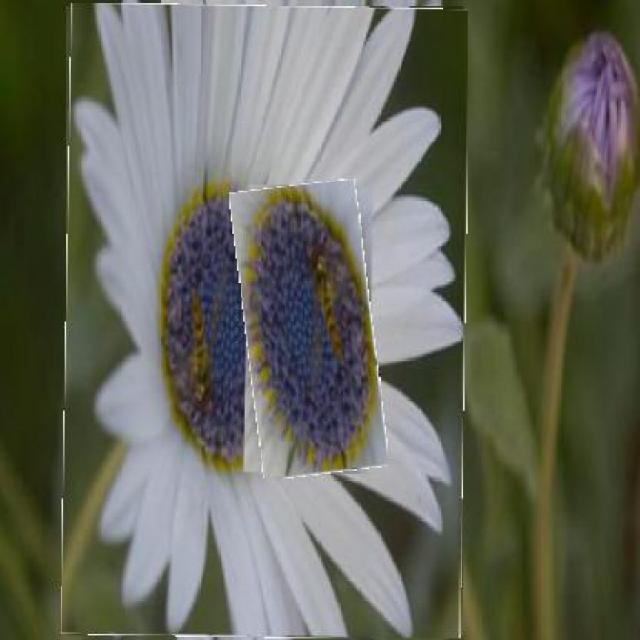Flower: (63, 5, 468, 639), (238, 181, 381, 477)
